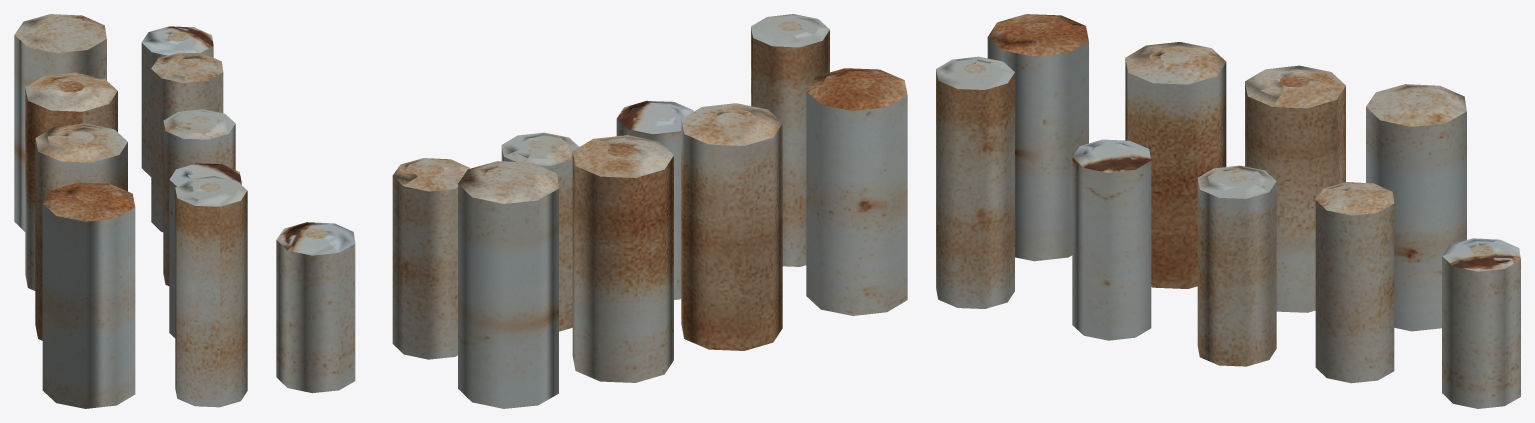
The model's file is youguan_01_05.fbx.
3 renders of one model, left to right at view 1: azimuth 30°, elevation 25°; view 2: azimuth 150°, elevation 25°; view 3: azimuth 270°, elevation 25°, orthographic. The views are drawn at different scales.
Visible parts, largest first — view 1: Youguan_01_05; view 2: Youguan_01_05; view 3: Youguan_01_05.
Boxes of the visible parts, x1,y1,x2,y2 form: Youguan_01_05: (14,14,247,408); Youguan_01_05: (276,14,907,408); Youguan_01_05: (936,14,1520,408).
Size of the model in its own units: 1948 by 1051 by 2491.
